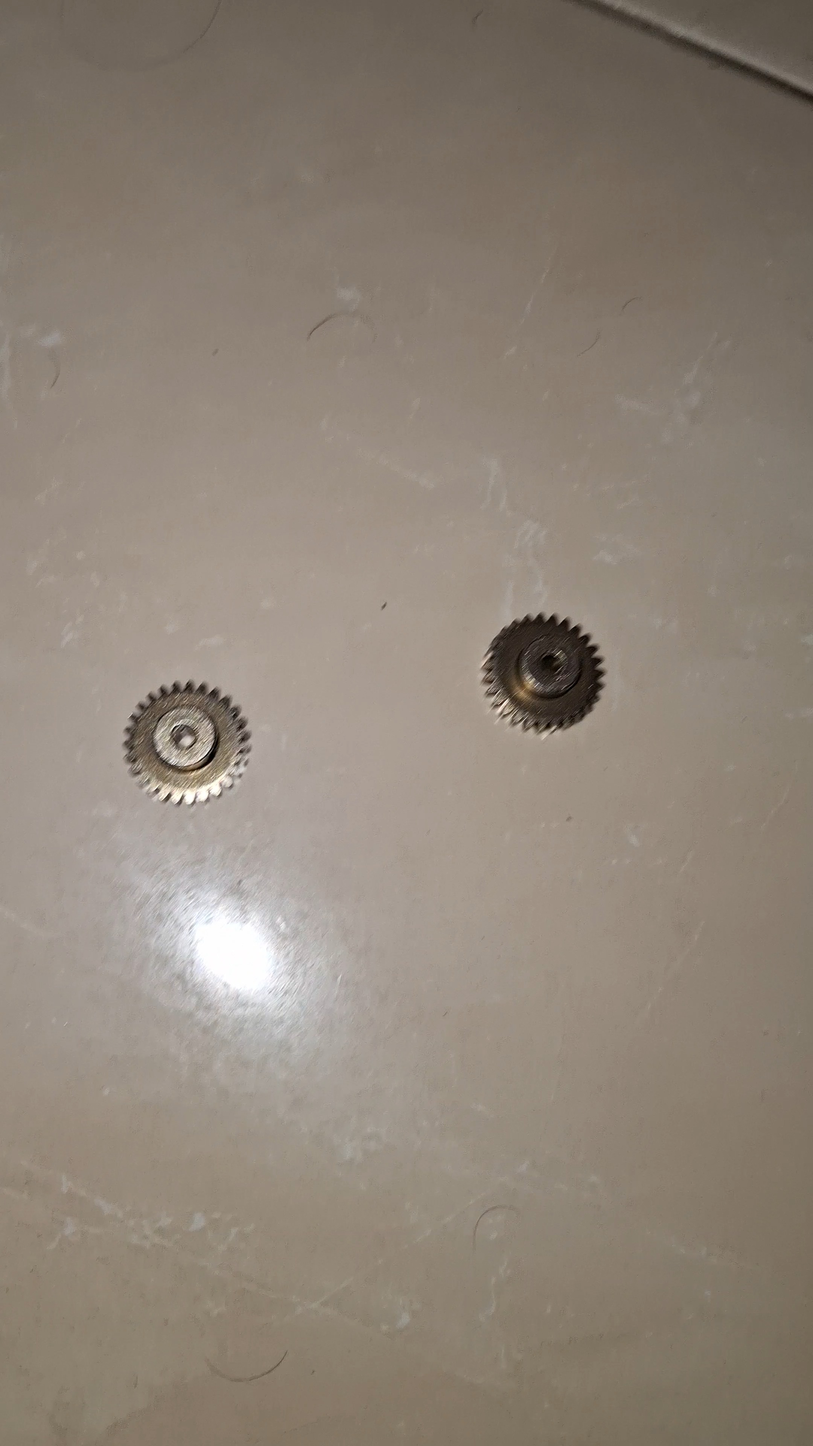spur gear: (125, 682, 250, 804), (483, 615, 603, 732)
